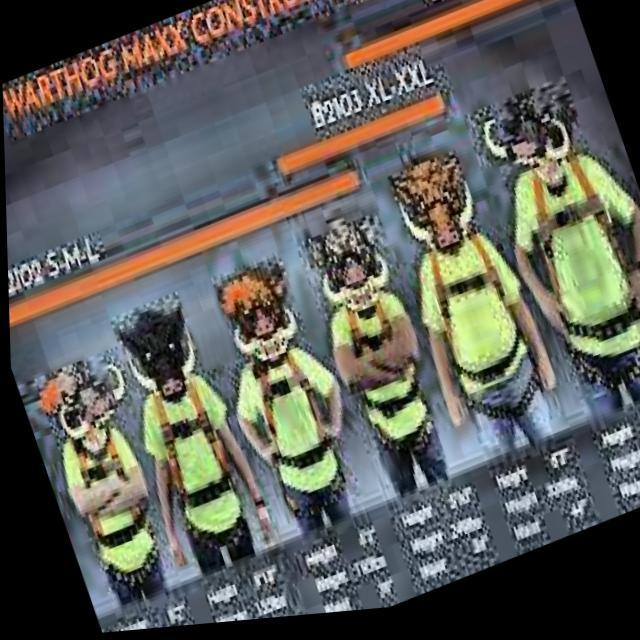belt: (507, 156, 640, 420), (412, 229, 550, 446), (133, 366, 255, 568), (324, 281, 439, 474), (234, 344, 350, 532), (56, 414, 165, 598)
